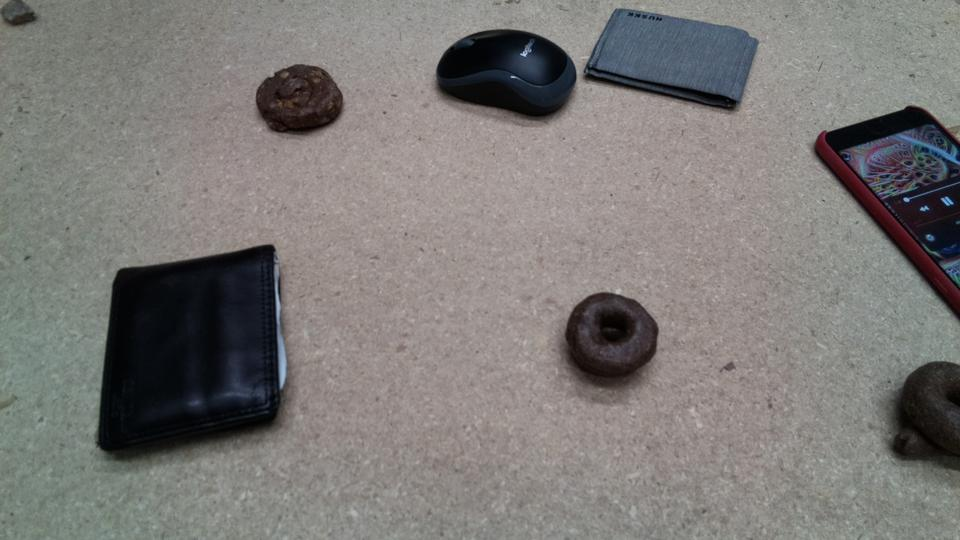poop: (565, 290, 662, 381), (889, 358, 960, 468), (253, 62, 345, 134)
